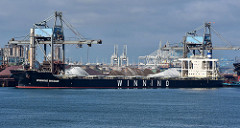bulk carrier: (12, 52, 221, 91)
